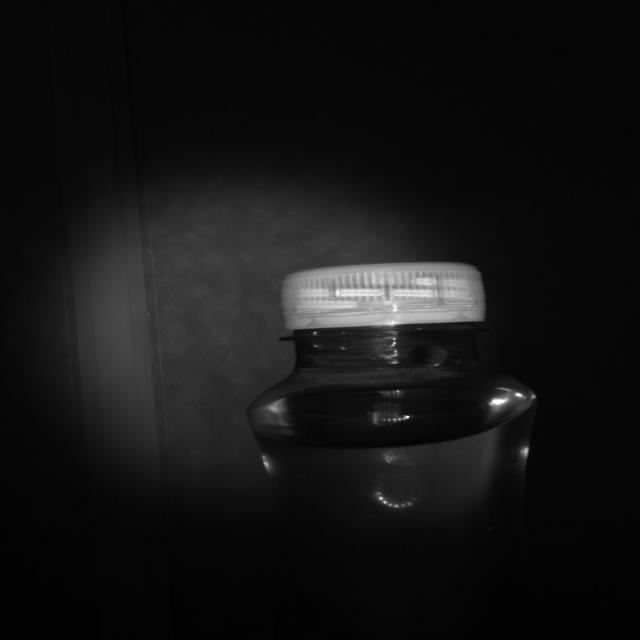Good: (277, 259, 489, 335)
